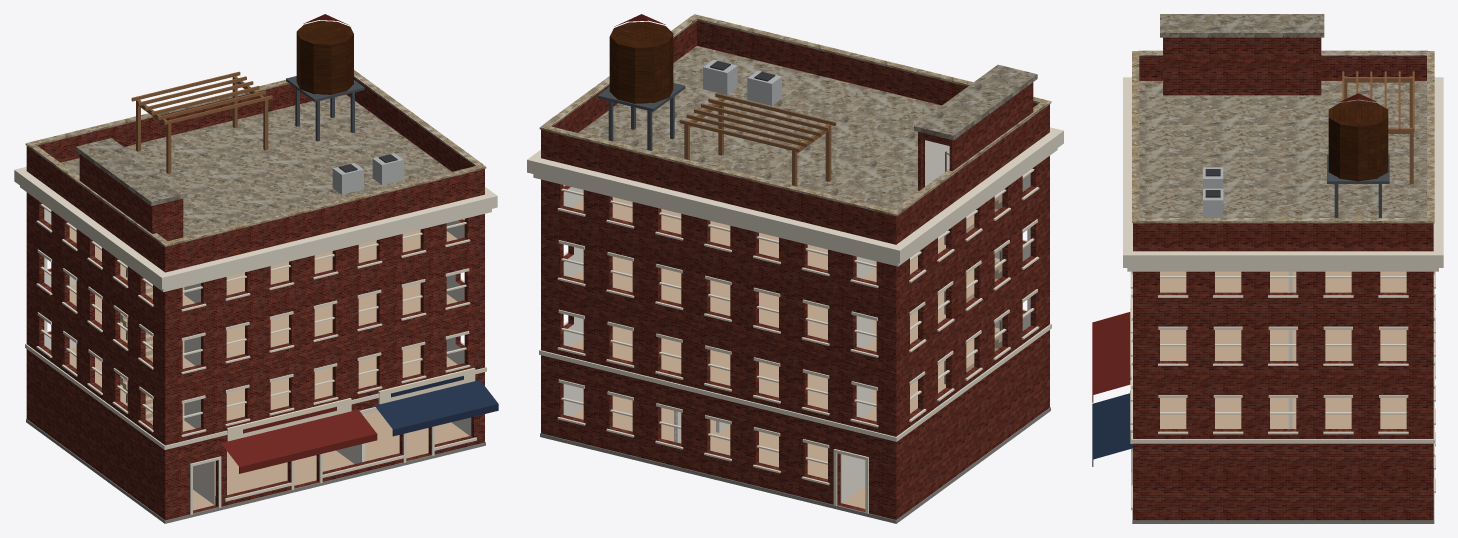
The model's file is ns-main-street.towns-v2.lod0.glb.
The picture shows the model from 3 angles, left to right: view 1: azimuth 30°, elevation 25°; view 2: azimuth 150°, elevation 25°; view 3: azimuth 270°, elevation 25°; orthographic projection. The views are drawn at different scales.
Visible parts, largest first — view 1: ns-main-street; view 2: ns-main-street; view 3: ns-main-street.
Part boxes in pixels (box(x1,y1,x2,y2)): ns-main-street: box(14, 14, 498, 523); ns-main-street: box(527, 14, 1063, 523); ns-main-street: box(1092, 14, 1443, 523).
Size of the model in its own units: 16.8 by 17.66 by 14.02.
Materials: 6 (3 with a texture image).
